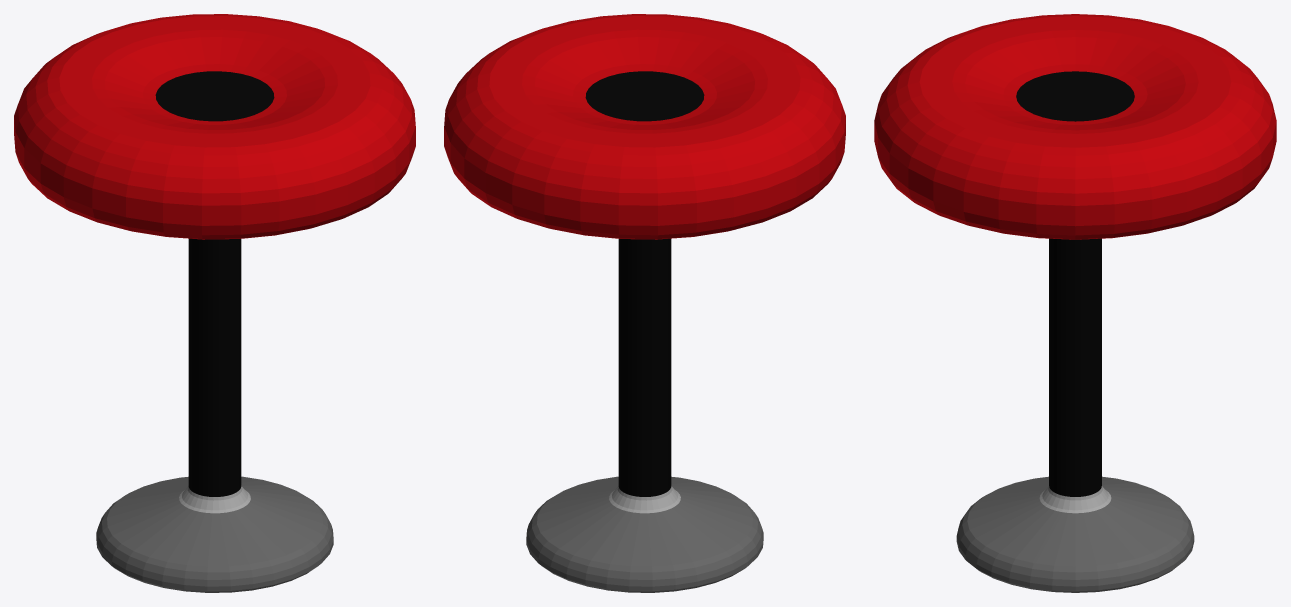
File: Chair.fbx
The picture shows the model from 3 angles, left to right: view 1: azimuth 30°, elevation 25°; view 2: azimuth 150°, elevation 25°; view 3: azimuth 270°, elevation 25°; orthographic projection.
Visible parts, largest first — view 1: 柱体; view 2: 柱体; view 3: 柱体.
Boxes of the visible parts, x1,y1,x2,y2 form: 柱体: (14, 14, 415, 592); 柱体: (444, 14, 845, 592); 柱体: (874, 14, 1276, 592).
Bounding box in the file's own units: 1058 × 1341 × 1058.
